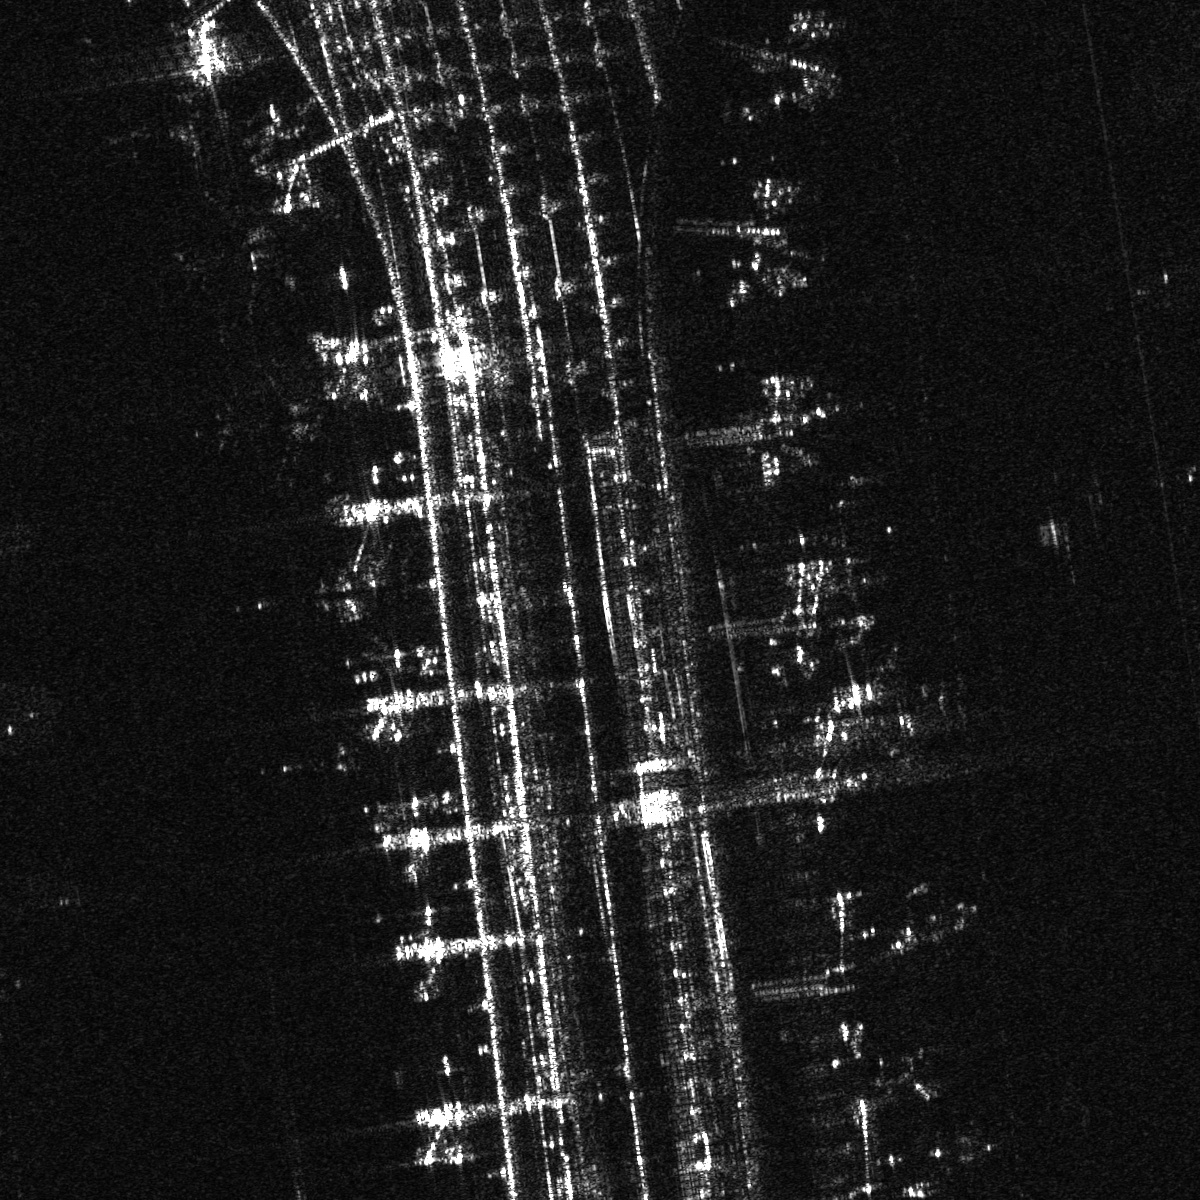Boeing787: (173, 192, 280, 323)
other: (216, 357, 324, 484), (113, 67, 219, 180)
